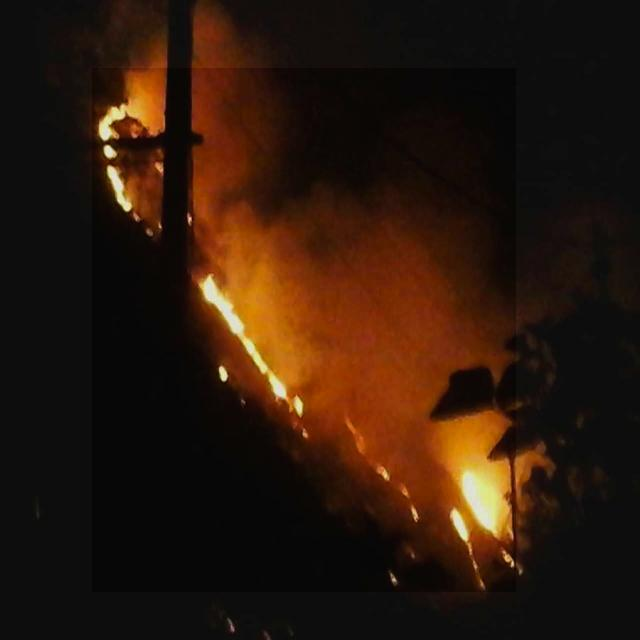Fire: (92, 68, 516, 592)
